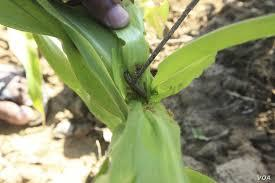fallarmy_worm: (121, 66, 151, 103)
